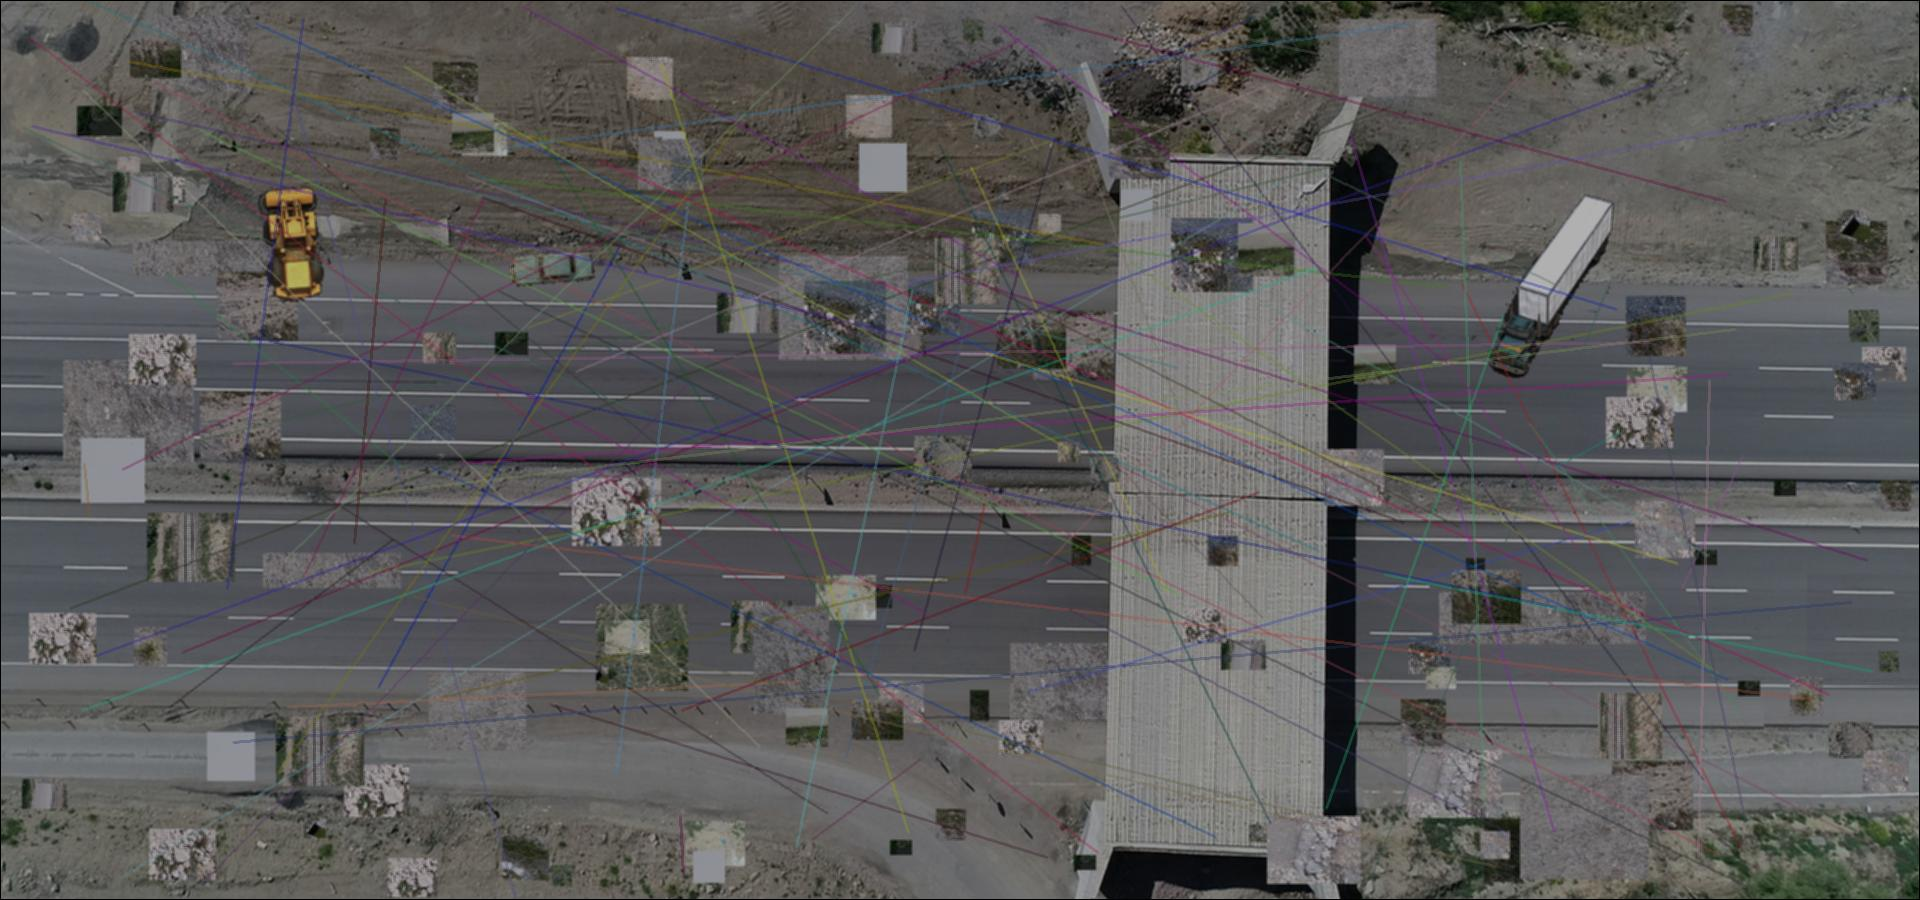arac: (1483, 193, 1615, 381), (255, 184, 340, 307), (506, 251, 595, 289)
